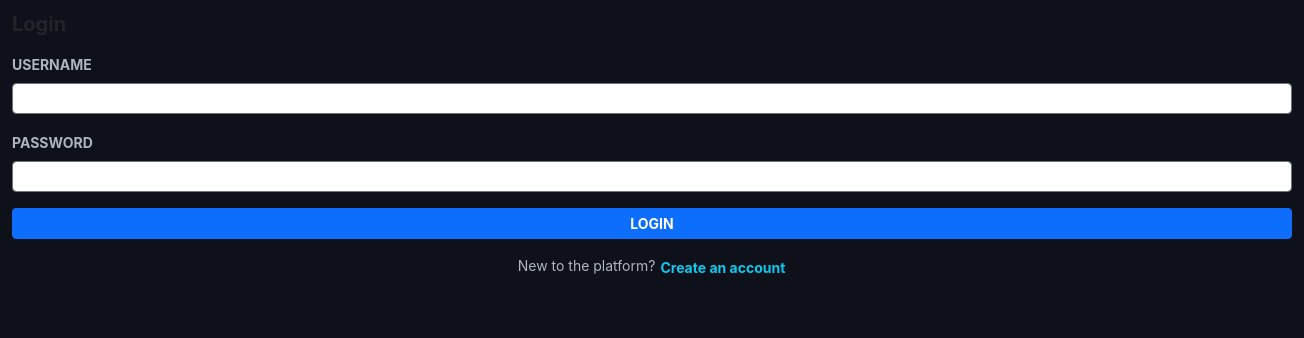
Scenario: Auth Component › should show error message on login failure
Type "test" into the field labelled "Username" at (652, 98), box [12, 83, 1292, 114]
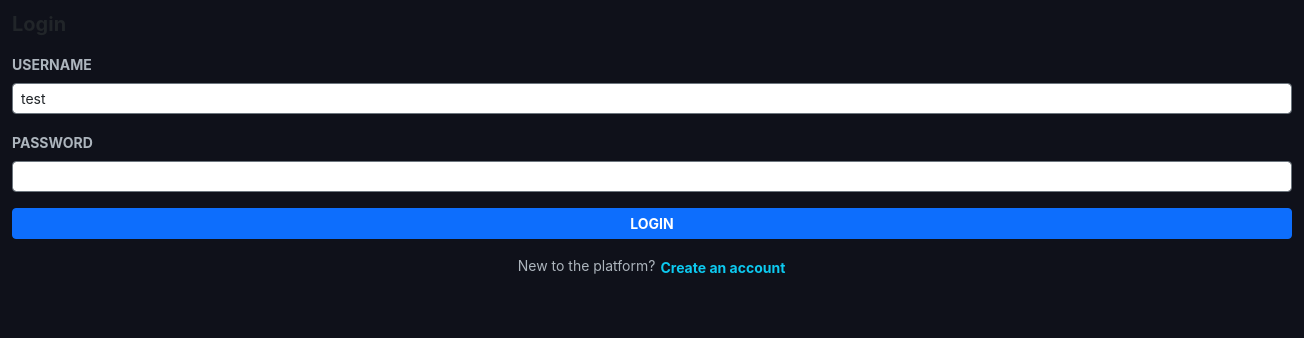
Type "password" into the password field labelled "Password" at (652, 176), box [12, 161, 1292, 192]
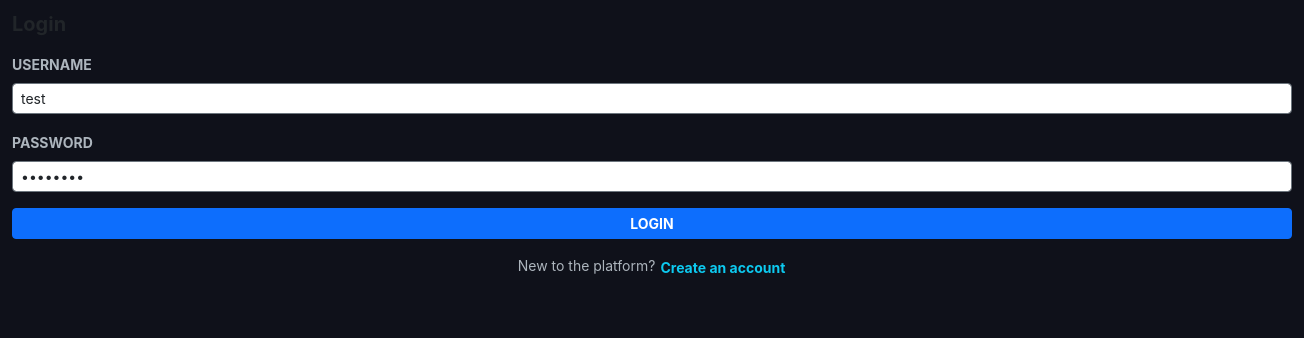
Click the button "LOGIN" at (652, 224), box [12, 208, 1292, 239]
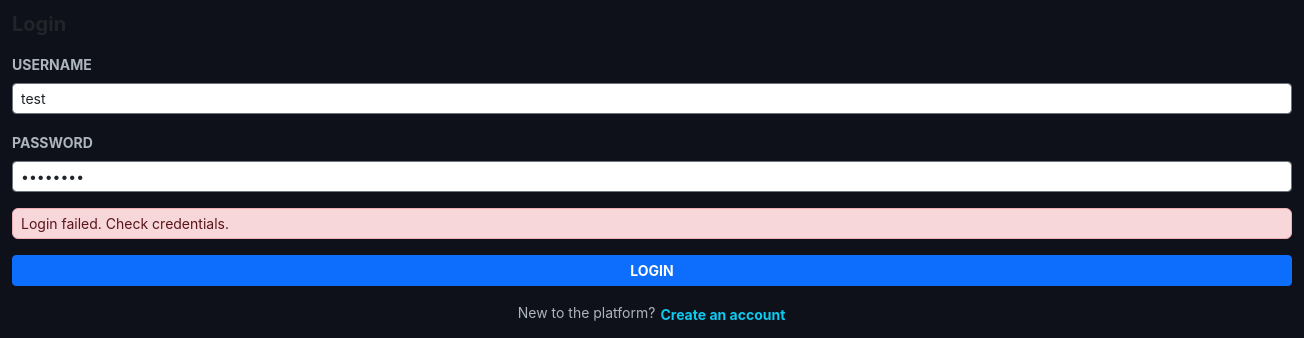
Expected: the text "Login failed. Check credentials." is shown, [12, 208, 1292, 239]
